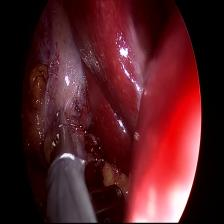Grasper: (47, 106, 85, 177)
